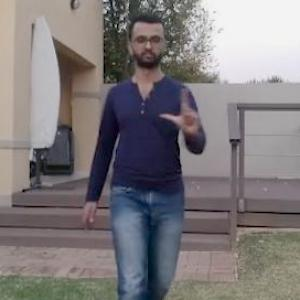land_hand: (156, 80, 210, 137)
